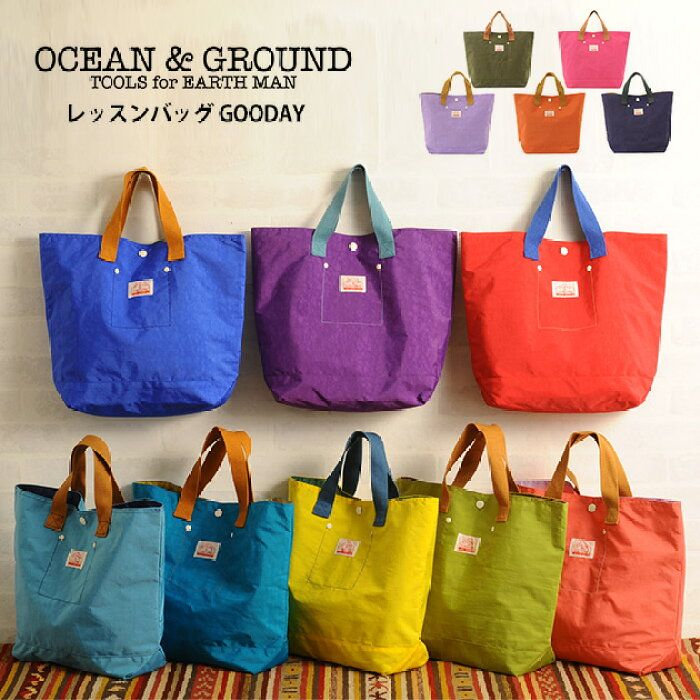nylon: (14, 165, 688, 679)
